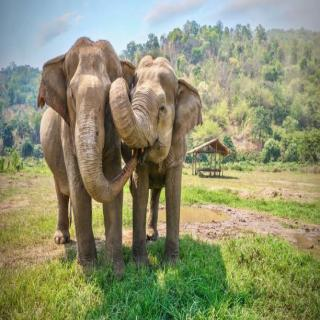Elephant: (36, 33, 137, 281), (109, 51, 204, 277)
